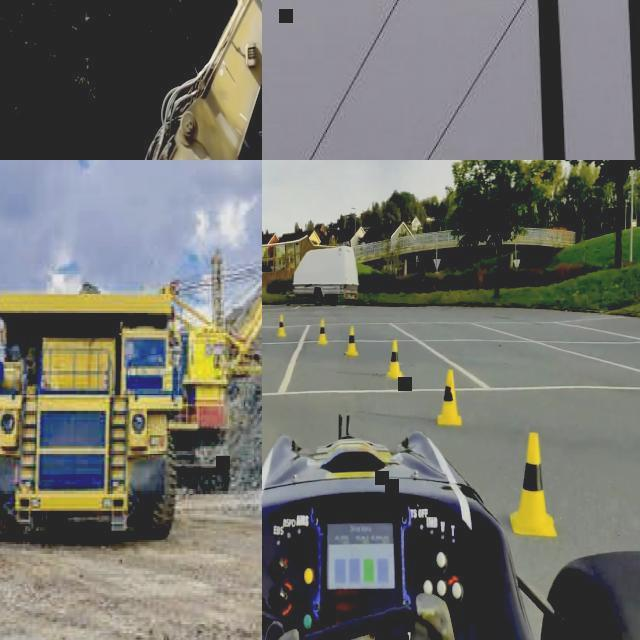machinery: (0, 279, 183, 537), (0, 0, 262, 160), (163, 250, 262, 492)
person: (272, 597, 467, 640)
safety_cone: (512, 428, 560, 540), (439, 368, 462, 428), (388, 337, 404, 379), (346, 325, 358, 358), (318, 318, 328, 348), (277, 312, 288, 339)
vehicle: (262, 418, 640, 640)
